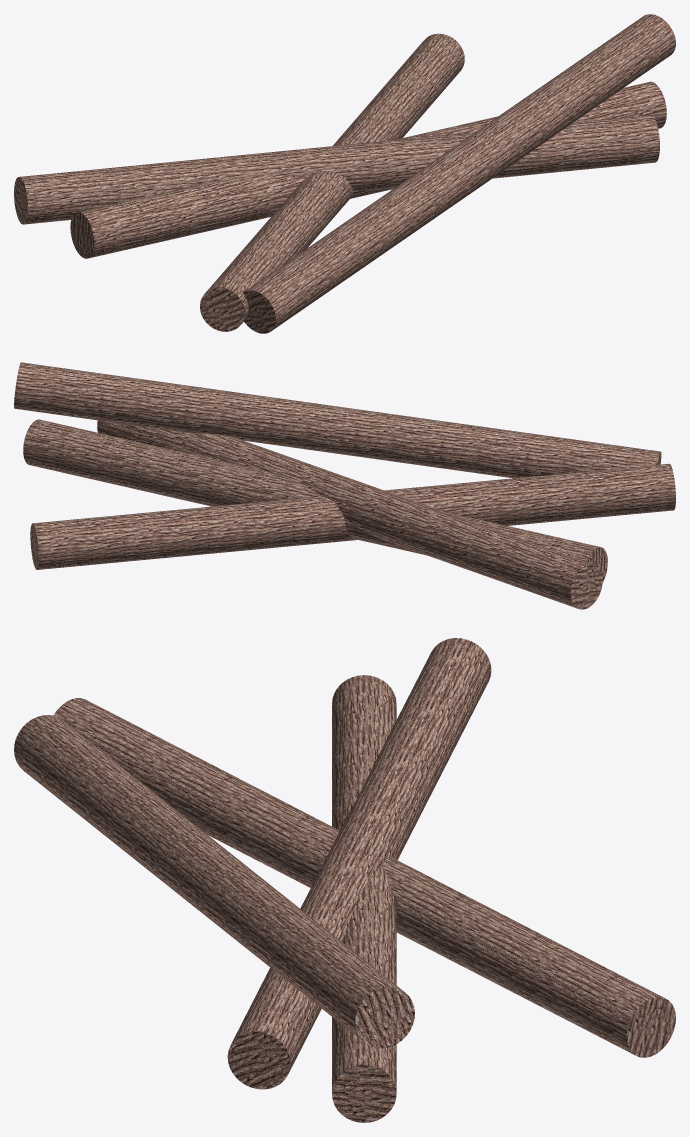
The model's file is sticks.obj.
The picture shows the model from 3 angles, top to bottom: view 1: azimuth 30°, elevation 25°; view 2: azimuth 150°, elevation 25°; view 3: azimuth 270°, elevation 25°; orthographic projection. The views are drawn at different scales.
Parts seen in each view (by area): view 1: Branch3_Sphere.003, Branch0_Sphere.004, Branch2_Sphere.002, Branch1_Sphere; view 2: Branch3_Sphere.003, Branch2_Sphere.002, Branch0_Sphere.004, Branch1_Sphere; view 3: Branch2_Sphere.002, Branch3_Sphere.003, Branch0_Sphere.004, Branch1_Sphere.
Boxes of the visible parts, x1,y1,x2,y2 form: Branch3_Sphere.003: (243, 14, 675, 333); Branch0_Sphere.004: (14, 115, 659, 224); Branch2_Sphere.002: (200, 33, 464, 331); Branch1_Sphere: (70, 81, 666, 258); Branch3_Sphere.003: (14, 362, 661, 478); Branch2_Sphere.002: (30, 463, 675, 569); Branch0_Sphere.004: (97, 420, 602, 609); Branch1_Sphere: (23, 419, 607, 582); Branch2_Sphere.002: (53, 698, 675, 1057); Branch3_Sphere.003: (14, 715, 414, 1048); Branch0_Sphere.004: (227, 638, 491, 1089); Branch1_Sphere: (332, 675, 396, 1122).
Size of the model in its own units: 13.13 by 2.16 by 8.98.
